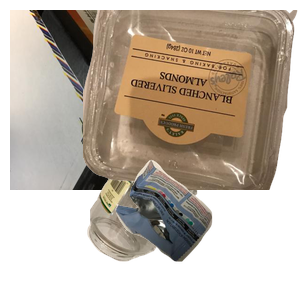cardboard: (10, 10, 238, 190)
glass: (85, 141, 275, 300)
plastic: (83, 10, 300, 190)
trash: (113, 157, 300, 300)
